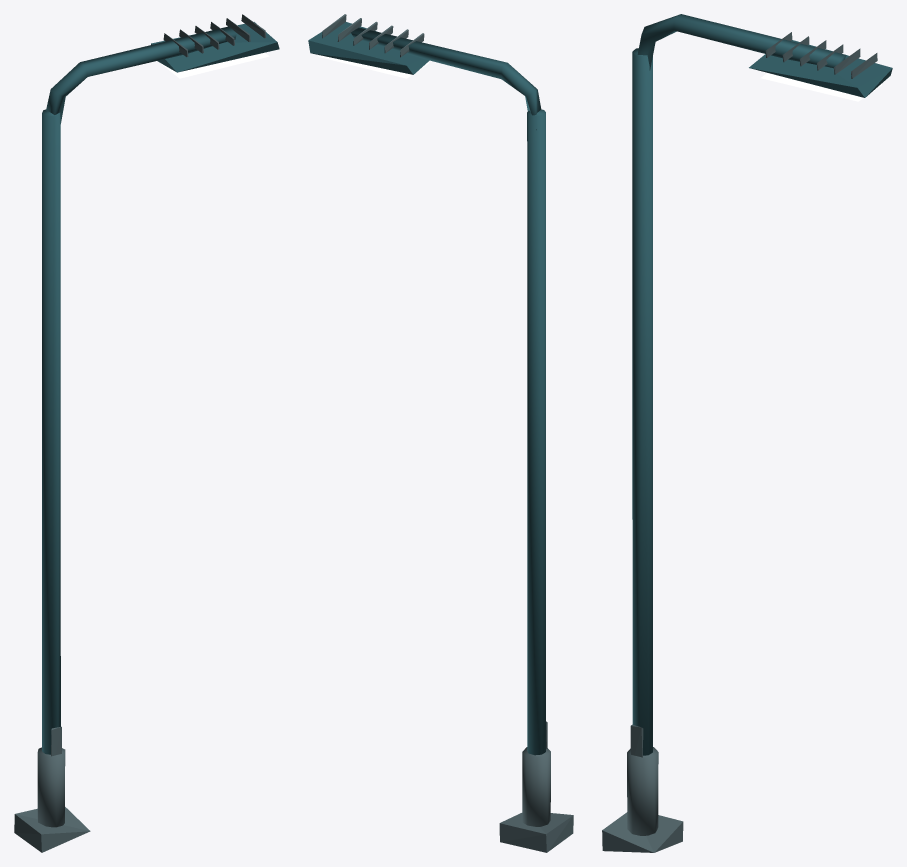
File: quay-lamp.low.glb
3 views of the same model, side by side, from view 1: azimuth 30°, elevation 25°; view 2: azimuth 150°, elevation 25°; view 3: azimuth 330°, elevation 25° (orthographic). The views are drawn at different scales.
Parts seen in each view (by area): view 1: geometry:body:1, geometry:body:0, geometry:body:2; view 2: geometry:body:1, geometry:body:0; view 3: geometry:body:1, geometry:body:0, geometry:body:2.
Part boxes in pixels (bbox=[...]): geometry:body:1: bbox=[42, 22, 279, 754]; geometry:body:0: bbox=[14, 14, 266, 852]; geometry:body:2: bbox=[159, 52, 269, 78]; geometry:body:1: bbox=[308, 22, 545, 755]; geometry:body:0: bbox=[322, 14, 573, 852]; geometry:body:1: bbox=[632, 14, 892, 755]; geometry:body:0: bbox=[602, 32, 877, 852]; geometry:body:2: bbox=[760, 73, 881, 101].
Bounding box in the file's own units: 2.3 × 7.05 × 0.504.
